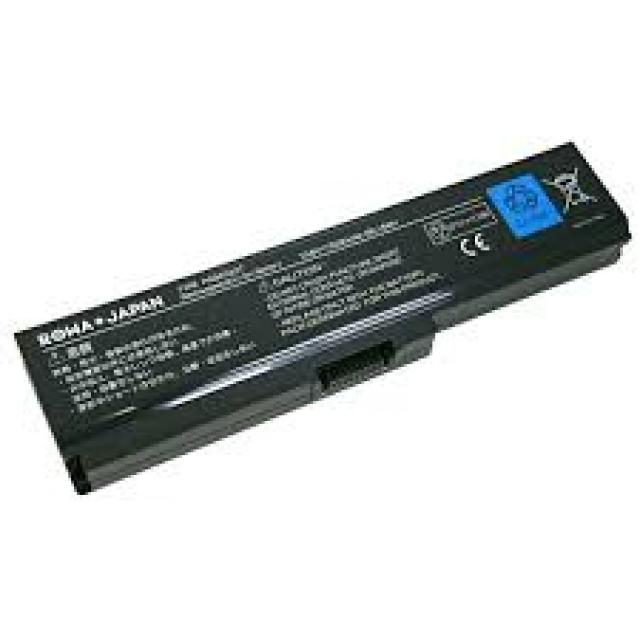non-organic waste: (13, 140, 635, 501)
